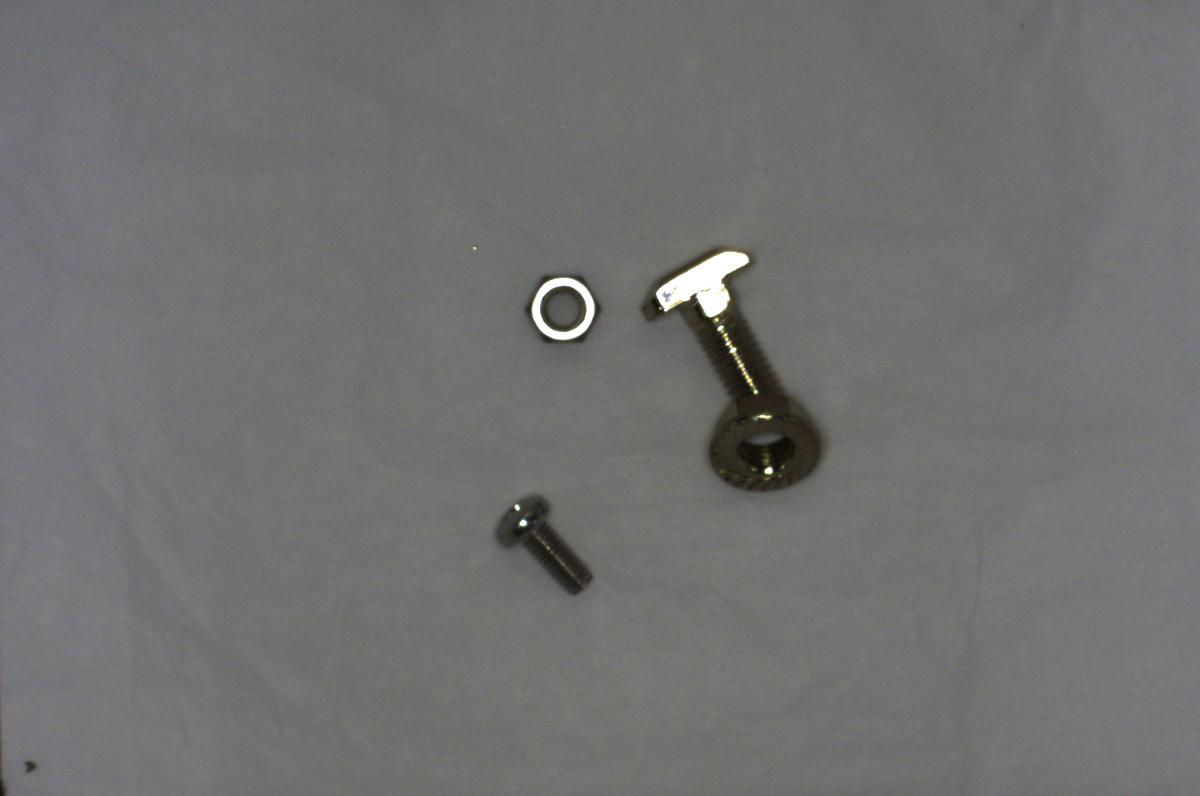Flange nut: (701, 408, 831, 494)
Hexagon nut: (507, 267, 605, 353)
Round head screw: (486, 489, 599, 601)
T-shaped screw: (638, 239, 802, 403)
